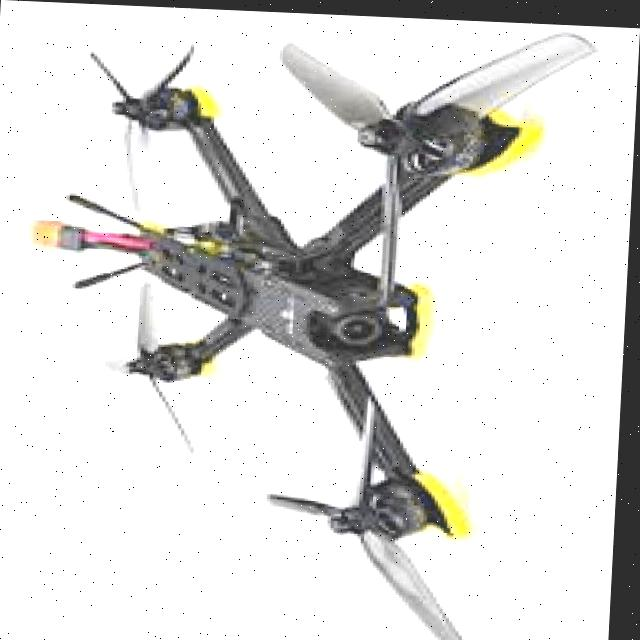drone: (7, 1, 603, 610)
